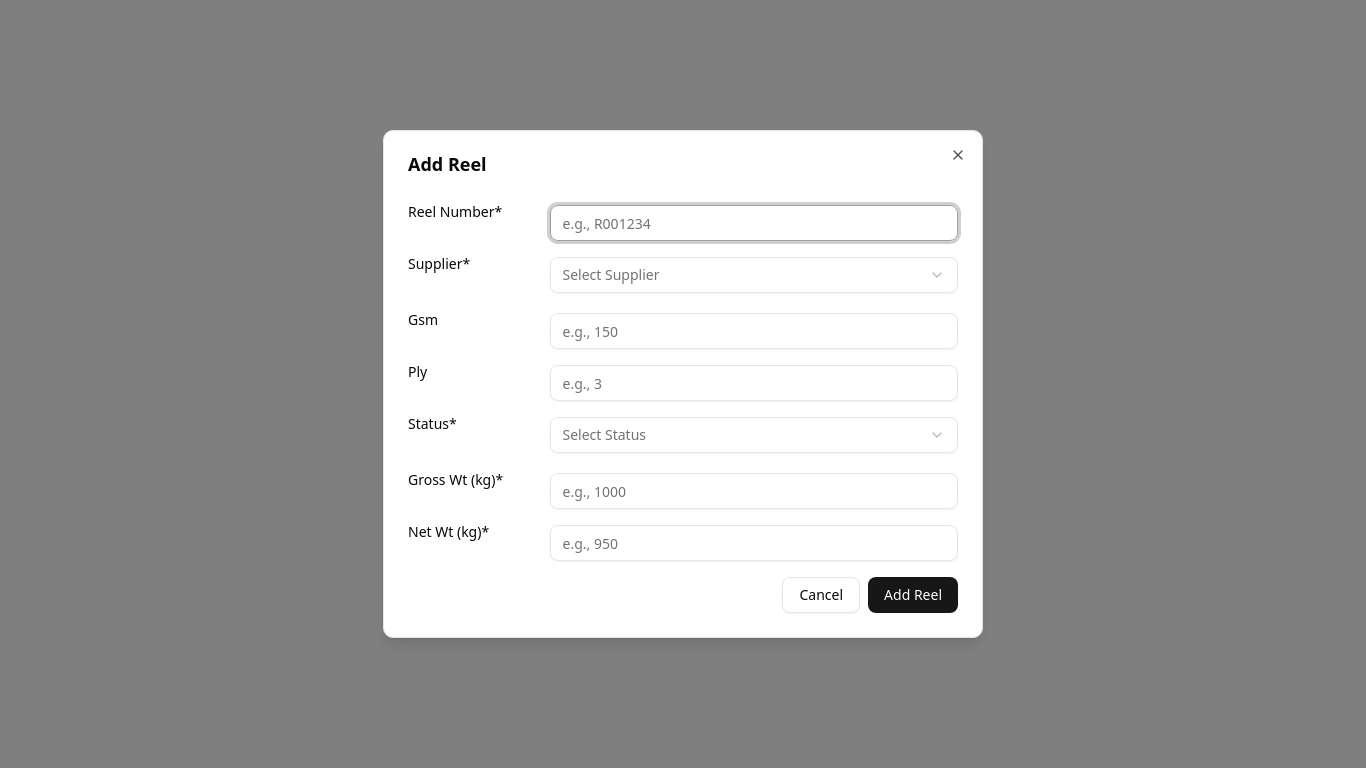
it: AddReelDialog › blocks submission on client-side validation
Click the button "Add Reel" at (913, 595), box [868,577,958,613]
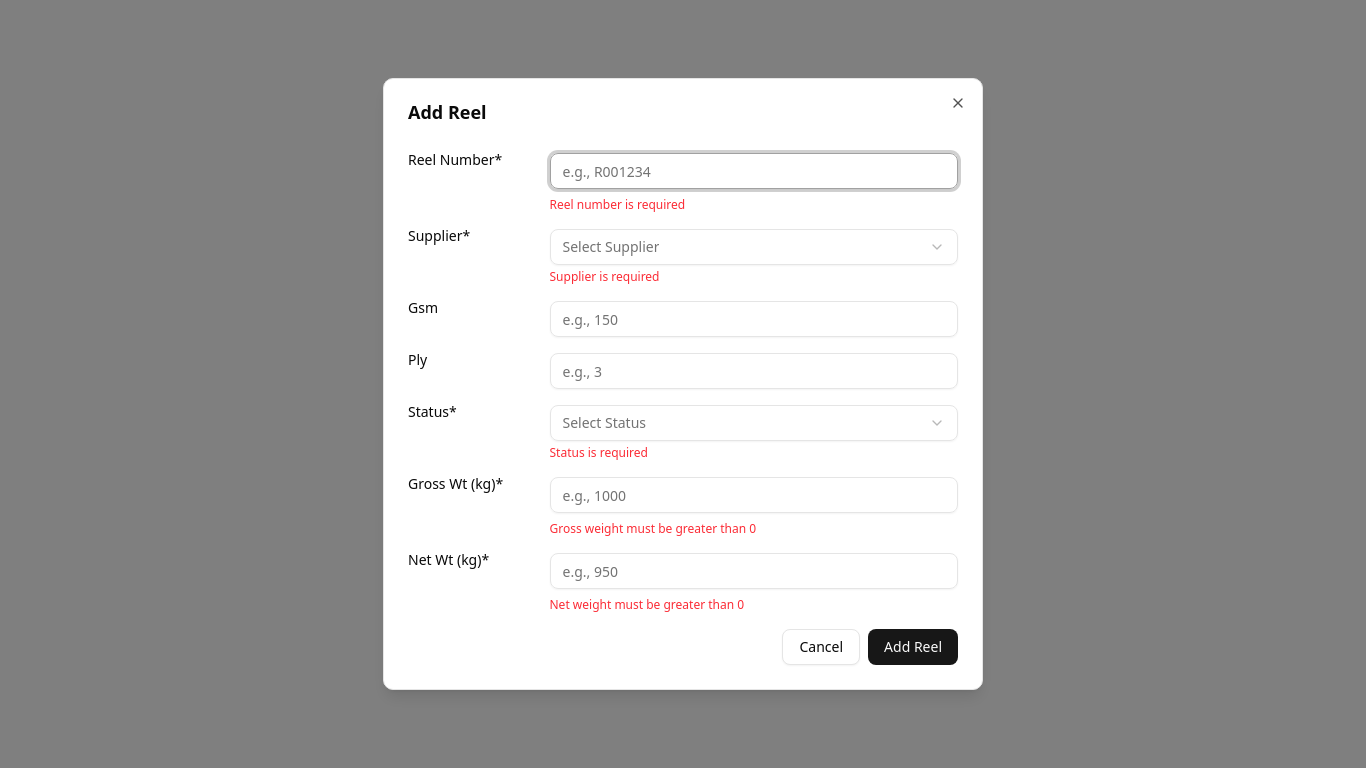
Expected: the text "Reel number is required" is shown, [550,196,685,213]
